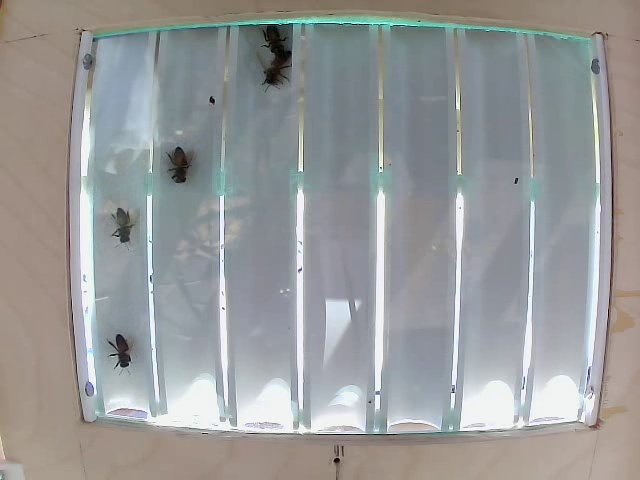bee: (105, 202, 138, 257), (102, 319, 139, 366), (164, 142, 196, 195), (266, 49, 299, 99), (261, 23, 301, 64)
